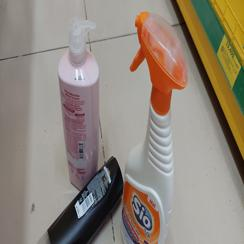sio: (124, 10, 189, 244)
sunsilk black: (48, 156, 124, 244)
sunsilk pink: (57, 19, 102, 190)
